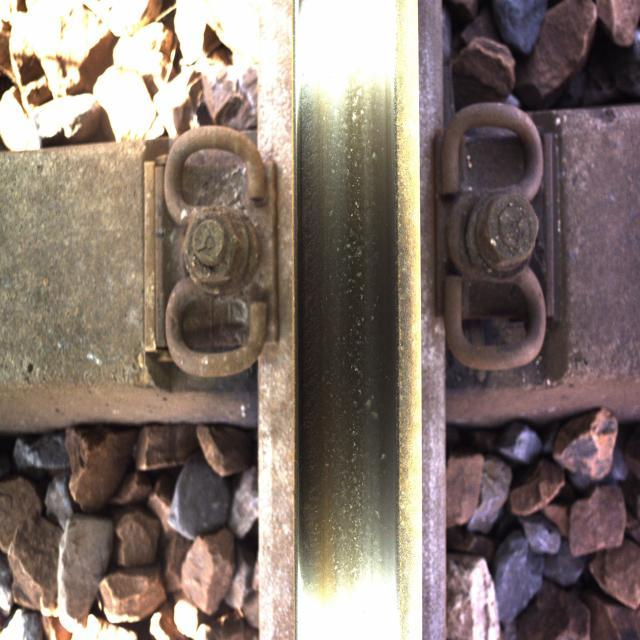normal: (300, 43, 406, 636)
